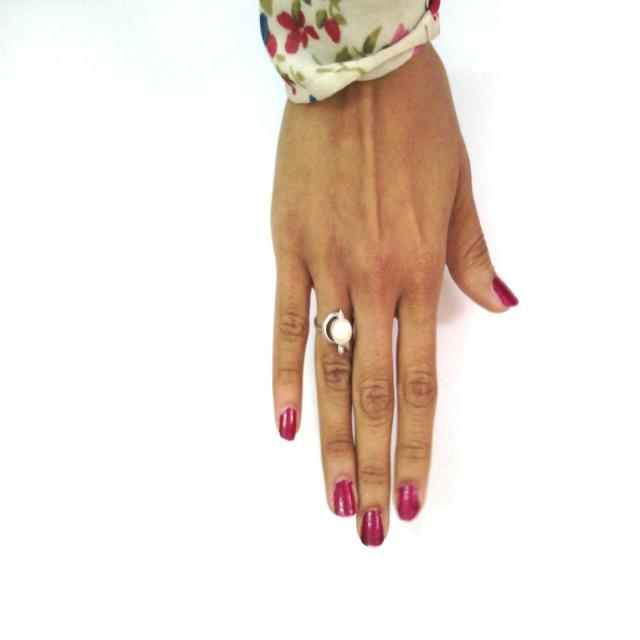Fingernail: (362, 509, 384, 547), (398, 482, 419, 521), (334, 479, 354, 517), (494, 278, 518, 306), (280, 408, 296, 440)
